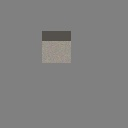supply_truck: (42, 31, 71, 63)
